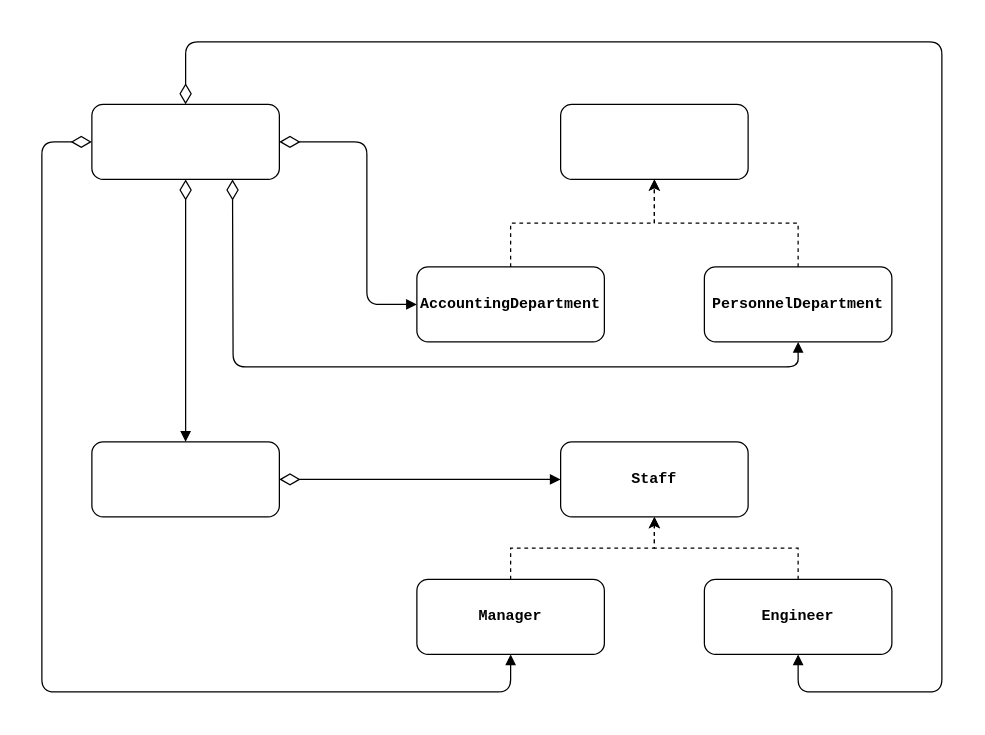
The diagram is 985 pixels wide and 735 high, and some of its shapes have lost their labels. The centre of each missing label's shape, as x and y in pixels:
Department: the point at 653,141
StaffContainer: the point at 185,479
Test: the point at 185,141
